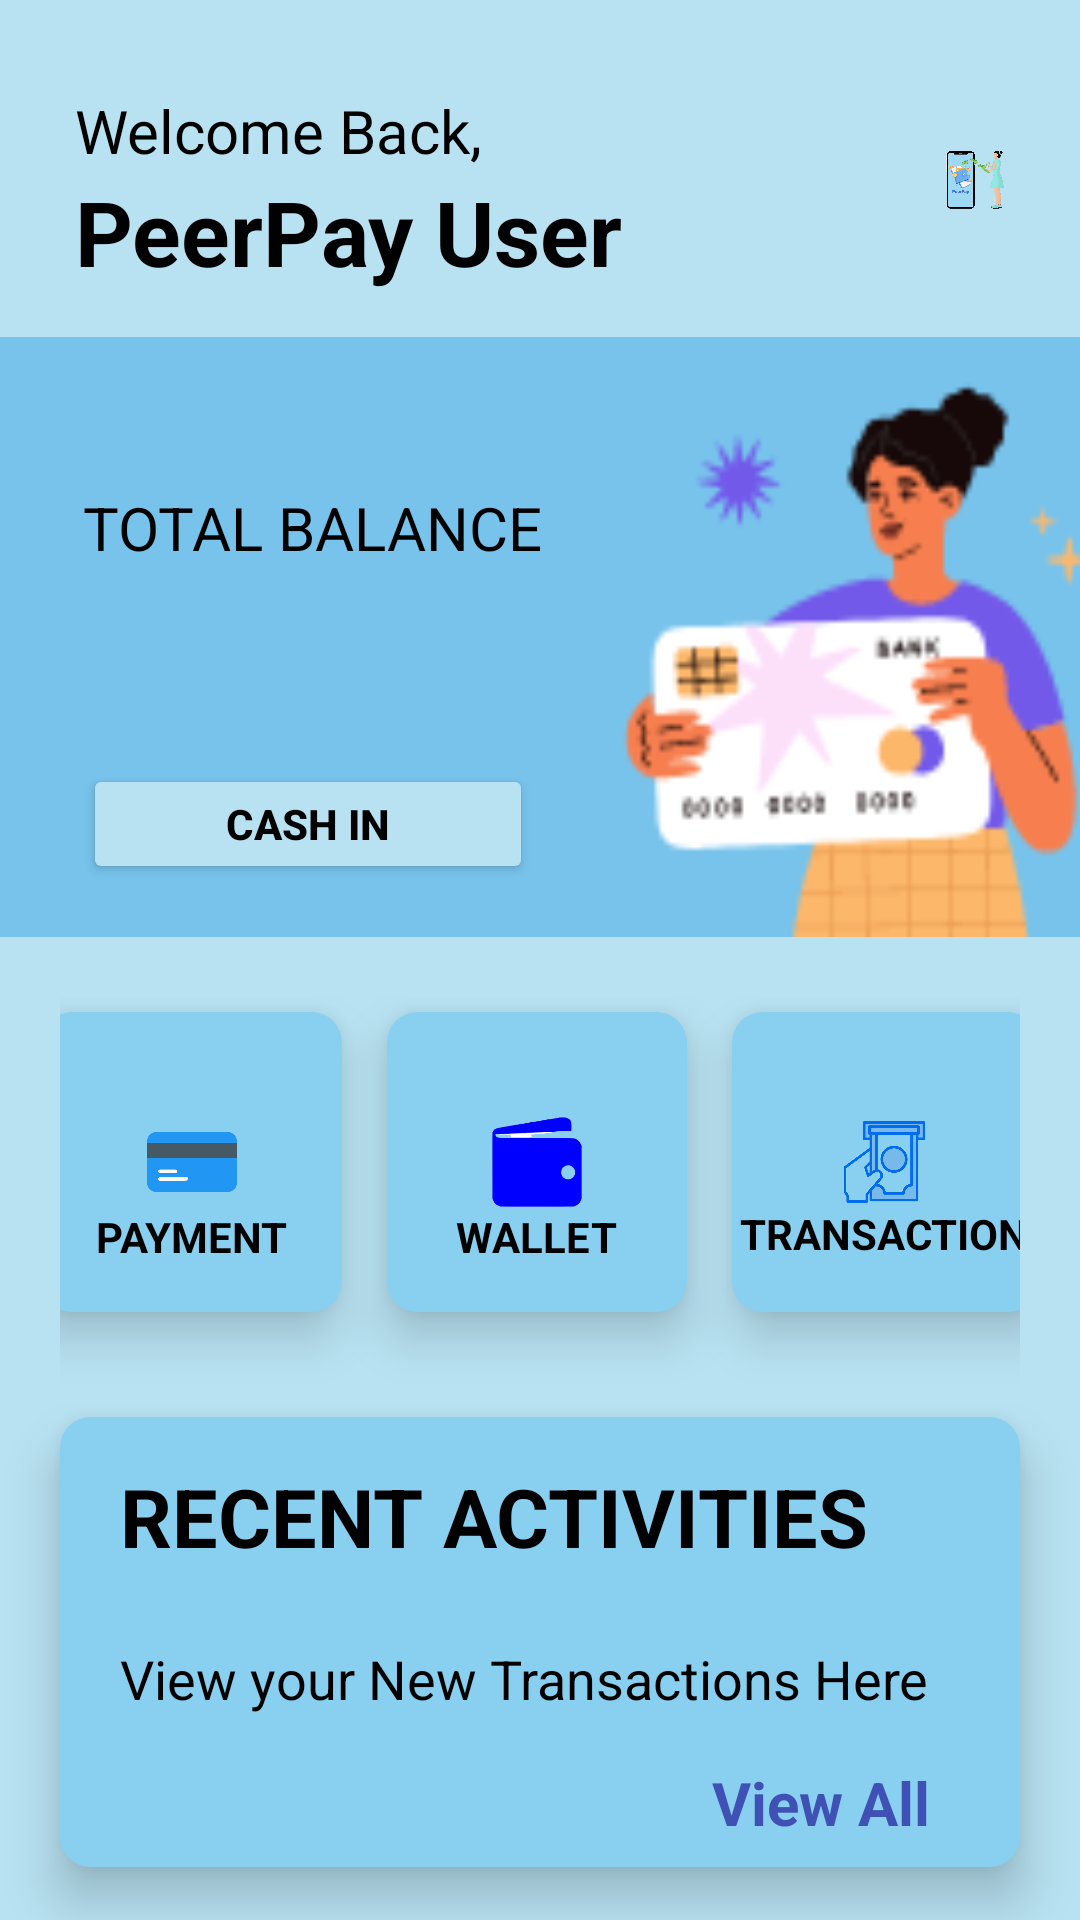

Icon click points for this 1080w x 1920h phone screenshot, format (x=x, y=y):
credit card: (x=192, y=1162)
withdraw: (x=884, y=1162)
